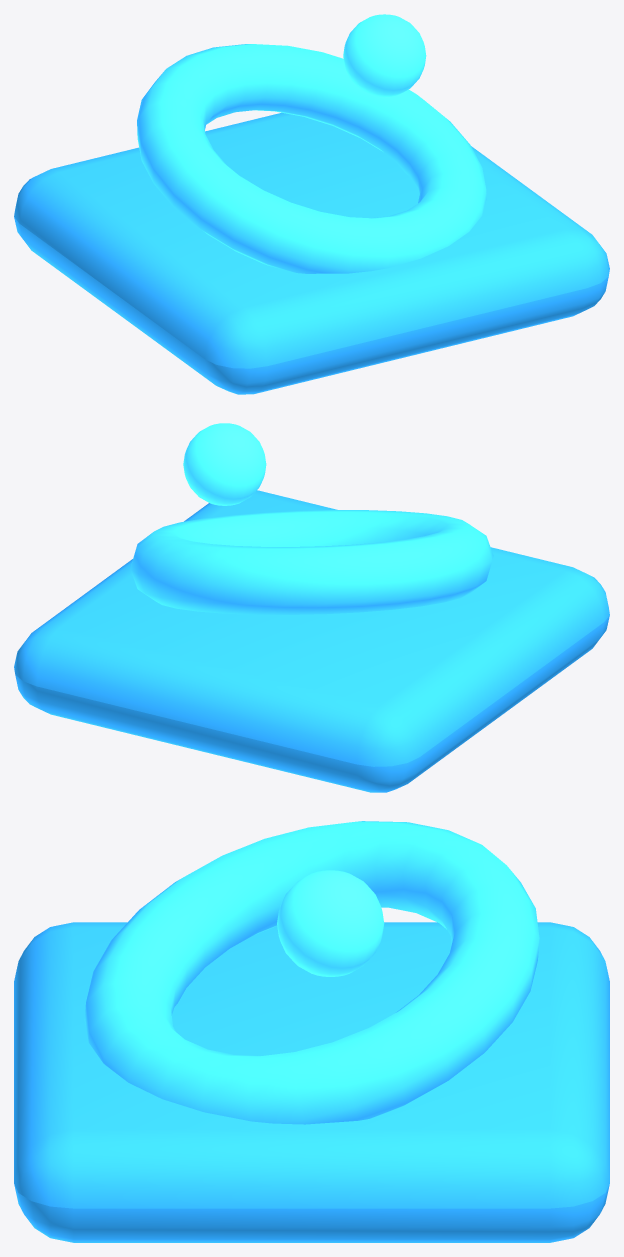
File: meta.glb
3 renders of one model, top to bottom at view 1: azimuth 30°, elevation 25°; view 2: azimuth 150°, elevation 25°; view 3: azimuth 270°, elevation 25°, orthographic. The views are drawn at different scales.
Visible parts, largest first — view 1: Cube.001, Torus, Sphere; view 2: Cube.001, Torus, Sphere; view 3: Cube.001, Torus, Sphere.
Boxes of the visible parts, x1,y1,x2,y2 form: Cube.001: [14, 112, 609, 394]; Torus: [137, 44, 486, 273]; Sphere: [343, 14, 426, 97]; Cube.001: [14, 490, 609, 792]; Torus: [130, 510, 493, 614]; Sphere: [183, 423, 266, 505]; Cube.001: [14, 922, 609, 1242]; Torus: [84, 821, 539, 1124]; Sphere: [277, 870, 384, 976].
Size of the model in its own units: 1.6 by 0.924 by 1.6.
